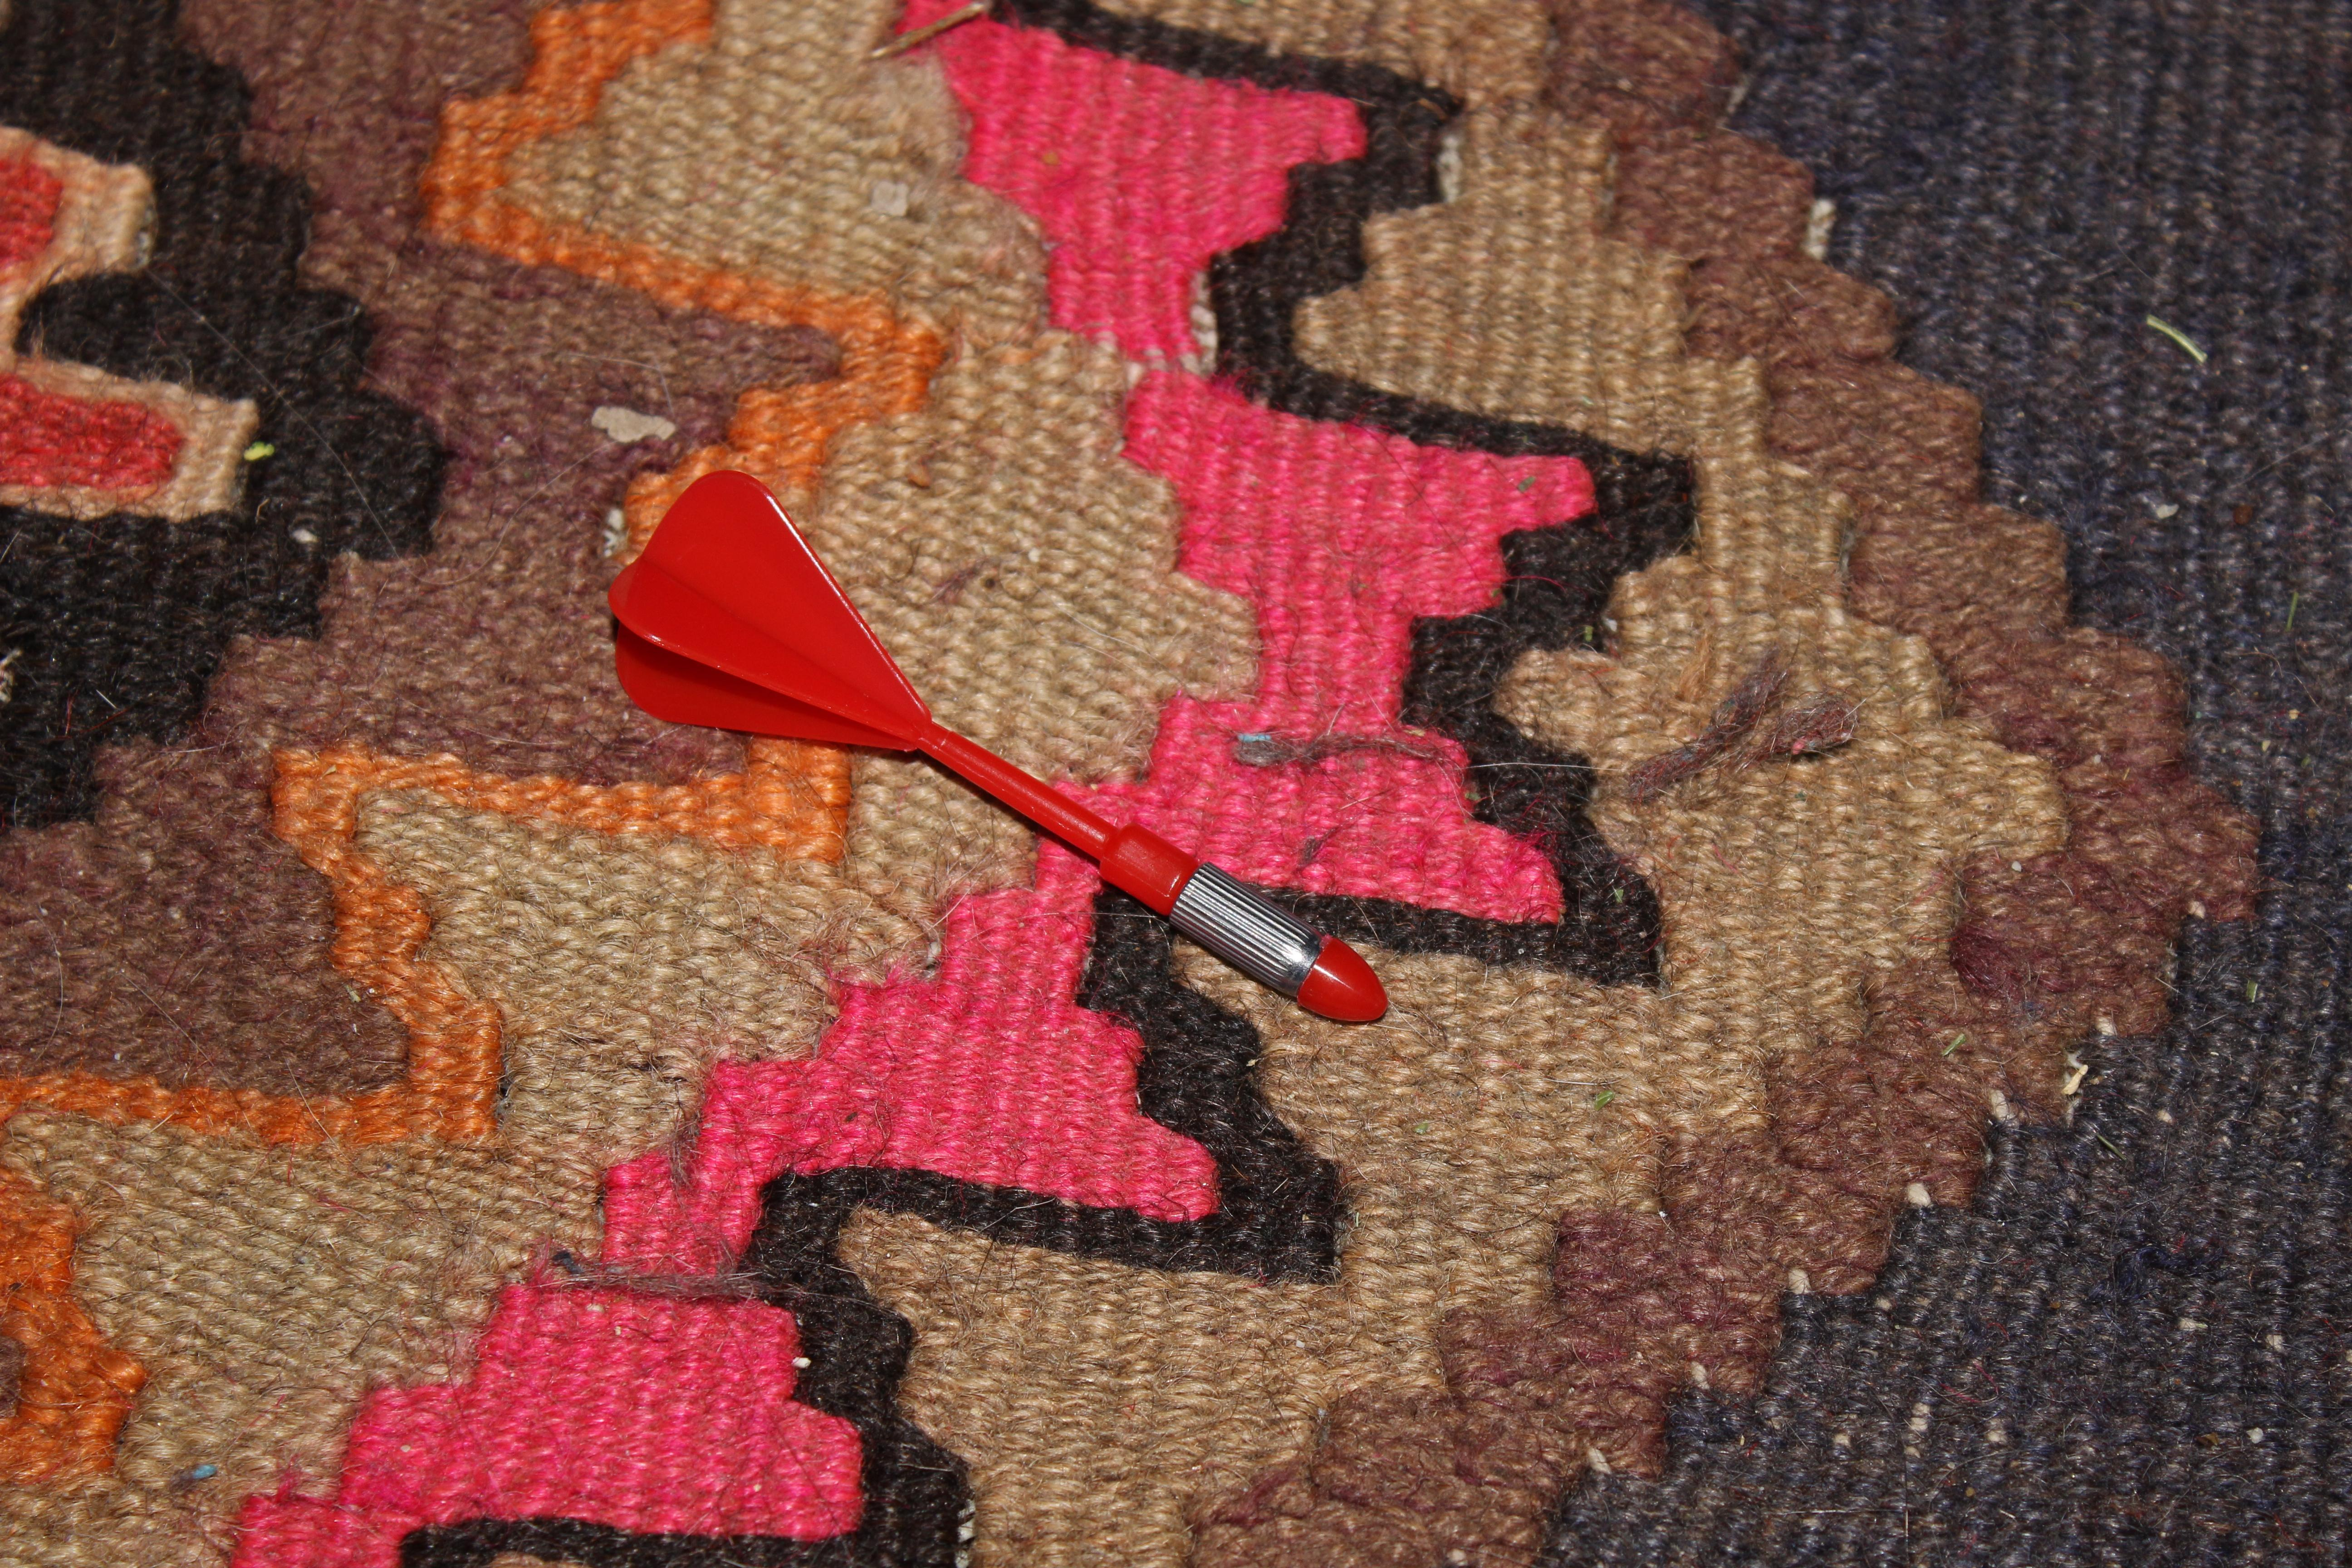redDart: (562, 438, 1423, 1057)
